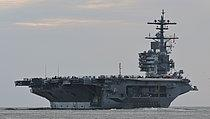MIL_Ship: (11, 14, 198, 110)
